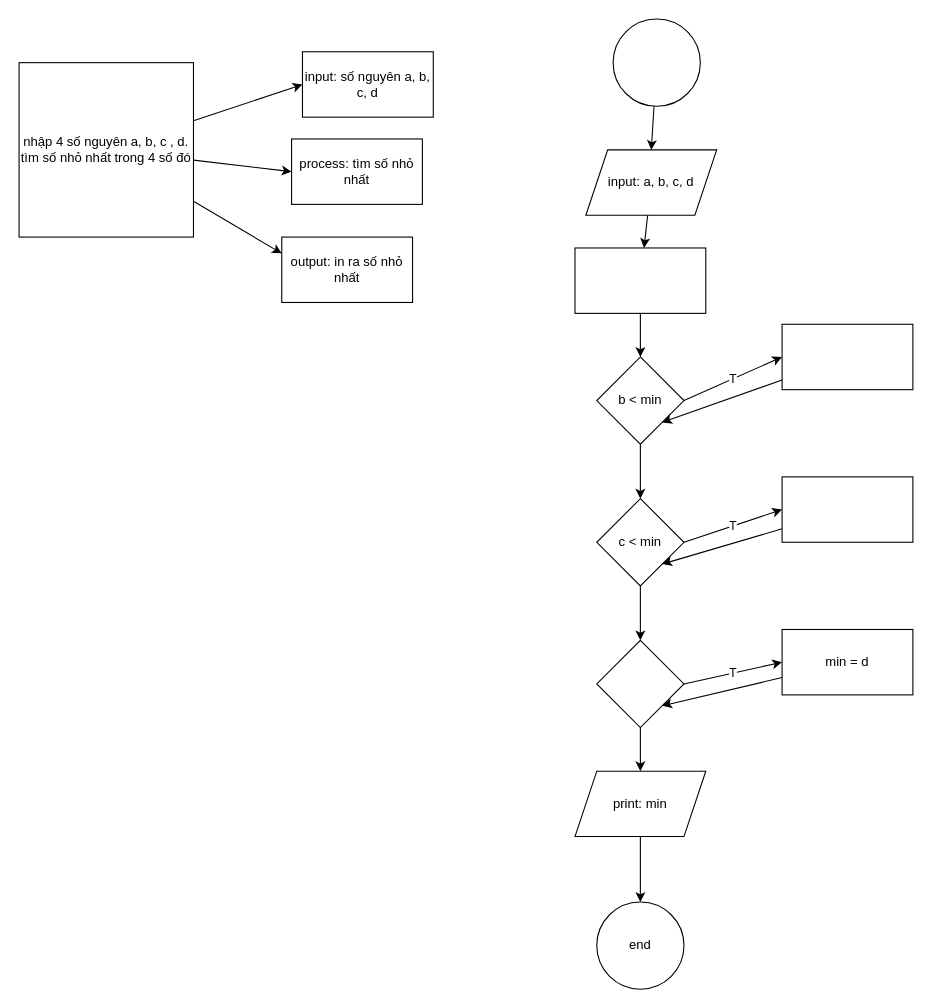
Image size: 932x1008. Some labels were removed from this diagram. The shapes that lost their labels are listed below. From the top down, each one's centre as x and y in pixels, then its label:
At [656,62]: "start".
At [640,280]: "min = a".
At [847,356]: "min = b".
At [847,509]: "min = c".
At [640,683]: "d < min".
